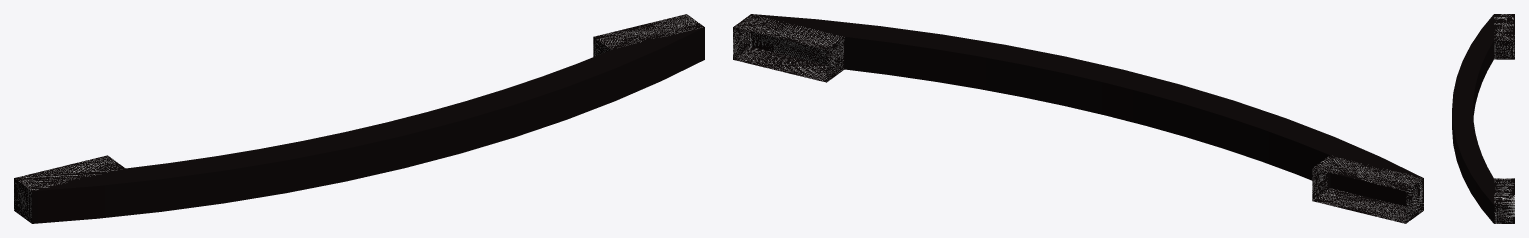
File: original-2.obj
The picture shows the model from 3 angles, left to right: view 1: azimuth 30°, elevation 25°; view 2: azimuth 150°, elevation 25°; view 3: azimuth 270°, elevation 25°; orthographic projection. The views are drawn at different scales.
Visible parts, largest first — view 1: 3dw.b296fbfbbe5dccf09c12d6260da9ac2b/Model/mesh1/mesh1-geometry/; view 2: 3dw.b296fbfbbe5dccf09c12d6260da9ac2b/Model/mesh1/mesh1-geometry/; view 3: 3dw.b296fbfbbe5dccf09c12d6260da9ac2b/Model/mesh1/mesh1-geometry/.
Part boxes in pixels (x1,y1,x2,y2): 3dw.b296fbfbbe5dccf09c12d6260da9ac2b/Model/mesh1/mesh1-geometry/: (14,14,704,223); 3dw.b296fbfbbe5dccf09c12d6260da9ac2b/Model/mesh1/mesh1-geometry/: (733,14,1423,223); 3dw.b296fbfbbe5dccf09c12d6260da9ac2b/Model/mesh1/mesh1-geometry/: (1452,14,1514,223).
Bounding box in the file's own units: 0.769 × 0.0357 × 0.107.
